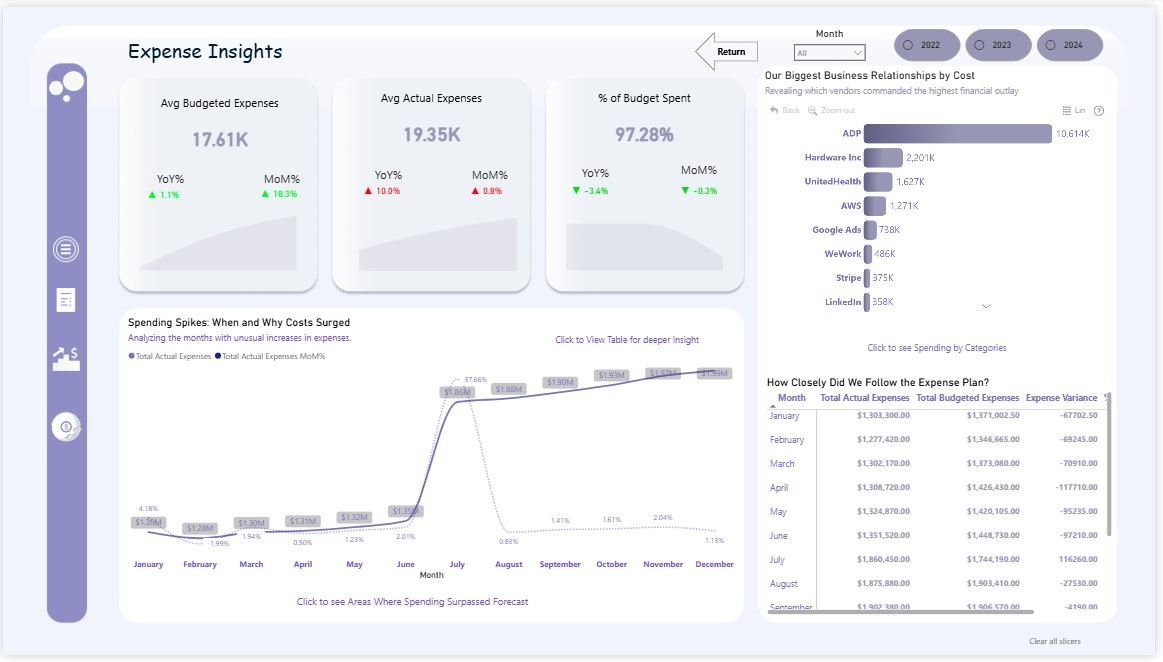

Layout of this report page (visuals, bound fields, positions):
{"tool":"powerbi","page":{"name":"Expenses Insight ","canvas":[1920,1080],"ordinal":3},"visuals":[{"type":"ZoomChartsDrillDownComboBarProE77E4ED357DC402ABA005987437CF8","title":"Our Biggest Business Relationships by Cost","fields":{"Category":["tlbTransaction.NAME"],"Values1":["Sum(tlbTransaction.AMOUNT)"]},"box":[1265.7,102.9,582.9,412.9],"z":1000},{"type":"lineChart","title":"Consistent Overruns: Expense Categories That Outpaced Plans","fields":{"Category":["ActualsVsBudget.Class"],"Y":["Matric.Total Budgeted Expenses","Matric.Total Actual Expenses"]},"box":[203.3,515,1026.7,445],"z":2000},{"type":"lineChart","title":"Spending Spikes: When and Why Costs Surged","fields":{"Y":["Matric.Total Actual Expenses"],"Y2":["Matric.Total Actual Expenses MoM%"],"Category":["DateTable.Date.Variation.Date Hierarchy.Month"]},"box":[203.3,515,1023.3,445],"z":3000},{"type":"cardVisual","fields":{"Data":["Matric.Avg Actual Expenses"]},"box":[557.2,109.1,315.7,150.9],"z":4000},{"type":"cardVisual","fields":{"Data":["Matric.Avg Budgeted Expenses"]},"box":[203.3,116.7,316.7,151.7],"z":5000},{"type":"cardVisual","fields":{"Data":["Matric.Expense Variance %"]},"box":[912.4,109.1,315.7,150.9],"z":6000},{"type":"pivotTable","title":"How Closely Did We Follow the Expense Plan?","fields":{"Rows":["DateTable.Date.Variation.Date Hierarchy.Month"],"Values":["Matric.Total Actual Expenses","Matric.Total Budgeted Expenses","Matric.Expense Variance","Matric.Expense Variance %"]},"box":[1268.3,615,585,403.3],"z":7000},{"type":"image","box":[78.3,461.7,53.3,53.3],"z":8000},{"type":"image","box":[73.3,368.3,63.3,70],"z":9000},{"type":"image","box":[74,540,64,92],"z":10000},{"type":"image","box":[74,636,64,126],"z":11000},{"type":"areaChart","fields":{"Y":["Matric.Avg Budgeted Expenses"],"Category":["DateTable.Date.Variation.Date Hierarchy.Year","DateTable.Date.Variation.Date Hierarchy.Month"]},"box":[213.3,316.2,291.4,127.6],"z":12000},{"type":"areaChart","fields":{"Category":["DateTable.Date.Variation.Date Hierarchy.Year","DateTable.Date.Variation.Date Hierarchy.Month"],"Y":["Matric.Avg Actual Expenses"]},"box":[578.3,318.3,293.3,126.7],"z":13000},{"type":"areaChart","fields":{"Category":["DateTable.Date.Variation.Date Hierarchy.Year","DateTable.Date.Variation.Date Hierarchy.Month"],"Y":["Matric.% of Budget Spent"]},"box":[923.8,316.2,291.4,127.6],"z":14000},{"type":"cardVisual","fields":{"Data":["Matric.Avg Expenses MoM Indicator"]},"box":[761.9,222.9,133.3,158.1],"z":15000},{"type":"cardVisual","fields":{"Data":["Matric.Actual Avg Expenses Yoy Indicator"]},"box":[582.9,226.7,131.4,150.5],"z":16000},{"type":"cardVisual","fields":{"Data":["Matric.Avg  Budgetted Expenses Mom Indicator"]},"box":[224,236,177,145],"z":17000},{"type":"cardVisual","fields":{"Data":["Matric.Avg  Budgetted Expenses Yoy Indicator"]},"box":[411.4,236.2,123.8,141],"z":18000},{"type":"cardVisual","fields":{"Data":["Matric.% of Budget Mom Indicator"]},"box":[1112,218,126,169],"z":19000},{"type":"cardVisual","fields":{"Data":["Matric.% of Budget Yoy Indicator"]},"box":[930,205,140,195],"z":20000},{"type":"textbox","box":[430,268,85,48],"z":21000},{"type":"textbox","box":[960,258,68,48],"z":22000},{"type":"textbox","box":[251,268,69,48],"z":23000},{"type":"textbox","box":[776,261,78,48],"z":24000},{"type":"textbox","box":[615,261,68,48],"z":25000},{"type":"textbox","box":[1125,254,81,48],"z":26000},{"type":"actionButton","box":[1346.7,540,420,55],"z":27000},{"type":"actionButton","box":[441.7,960,481.7,58.3],"z":31000},{"type":"actionButton","box":[895,525,305,58.3],"z":32000},{"type":"actionButton","box":[1153.3,41.7,105,65],"z":33001},{"type":"advancedSlicerVisual","fields":{"Values":["DateTable.Date.Variation.Date Hierarchy.Year"]},"box":[1480,32,360,64],"z":33002},{"type":"slicer","title":"Month","fields":{"Values":["DateTable.Date.Variation.Date Hierarchy.Month"]},"box":[1308.8,32.5,138.8,56.2],"z":33003},{"type":"actionButton","box":[1653.3,1030,200,50],"z":33004},{"type":"textbox","box":[203.3,45,331.7,71.7],"z":33005}]}

Visuals, with their boxes on the page's 1920x1080 design canvas (x1, y1, x2, y2). These are canvas units, not pixel positions in the 1163x662 screenshot, which may show the page scaled, cropped or inside an application window:
"Our Biggest Business Relationships by Cost" ZoomChartsDrillDownComboBarProE77E4ED357DC402ABA005987437CF8: 1266,103,1849,516
"Consistent Overruns: Expense Categories That Outpaced Plans" lineChart: 203,515,1230,960
"Spending Spikes: When and Why Costs Surged" lineChart: 203,515,1227,960
cardVisual - Matric.Avg Actual Expenses: 557,109,873,260
cardVisual - Matric.Avg Budgeted Expenses: 203,117,520,268
cardVisual - Matric.Expense Variance %: 912,109,1228,260
"How Closely Did We Follow the Expense Plan?" pivotTable: 1268,615,1853,1018
image: 78,462,132,515
image: 73,368,137,438
image: 74,540,138,632
image: 74,636,138,762
areaChart - Matric.Avg Budgeted Expenses x DateTable.Date.Variation.Date Hierarchy.Year: 213,316,505,444
areaChart - DateTable.Date.Variation.Date Hierarchy.Year x DateTable.Date.Variation.Date Hierarchy.Month: 578,318,872,445
areaChart - DateTable.Date.Variation.Date Hierarchy.Year x DateTable.Date.Variation.Date Hierarchy.Month: 924,316,1215,444
cardVisual - Matric.Avg Expenses MoM Indicator: 762,223,895,381
cardVisual - Matric.Actual Avg Expenses Yoy Indicator: 583,227,714,377
cardVisual - Matric.Avg  Budgetted Expenses Mom Indicator: 224,236,401,381
cardVisual - Matric.Avg  Budgetted Expenses Yoy Indicator: 411,236,535,377
cardVisual - Matric.% of Budget Mom Indicator: 1112,218,1238,387
cardVisual - Matric.% of Budget Yoy Indicator: 930,205,1070,400
textbox: 430,268,515,316
textbox: 960,258,1028,306
textbox: 251,268,320,316
textbox: 776,261,854,309
textbox: 615,261,683,309
textbox: 1125,254,1206,302
actionButton: 1347,540,1767,595
actionButton: 442,960,923,1018
actionButton: 895,525,1200,583
actionButton: 1153,42,1258,107
advancedSlicerVisual - DateTable.Date.Variation.Date Hierarchy.Year: 1480,32,1840,96
"Month" slicer: 1309,32,1448,89
actionButton: 1653,1030,1853,1080
textbox: 203,45,535,117
